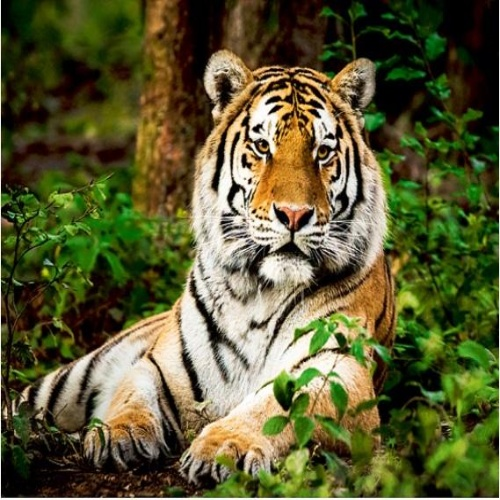tiger: (15, 26, 420, 496)
